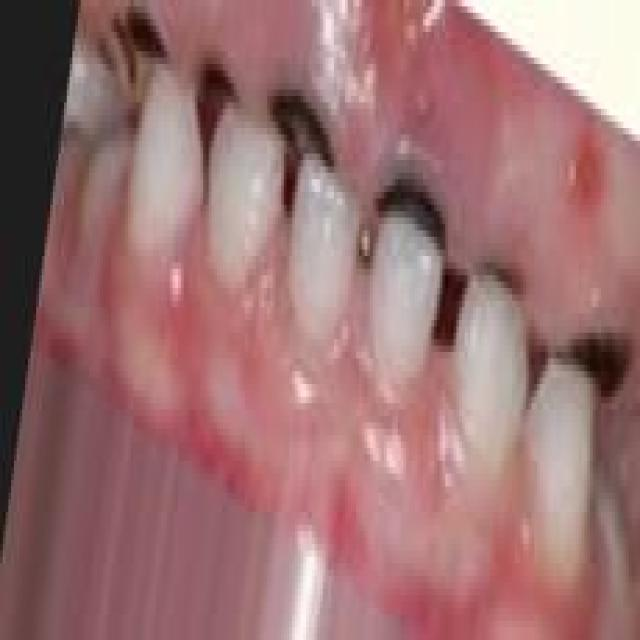caries: (367, 140, 454, 272), (266, 73, 340, 197), (564, 293, 640, 412), (100, 0, 176, 118), (188, 30, 250, 144)
